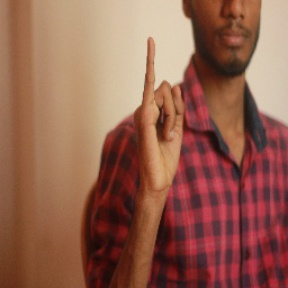I: (132, 34, 190, 181)
